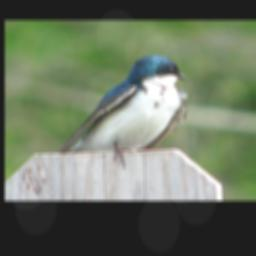Swallow: (56, 53, 190, 170)
